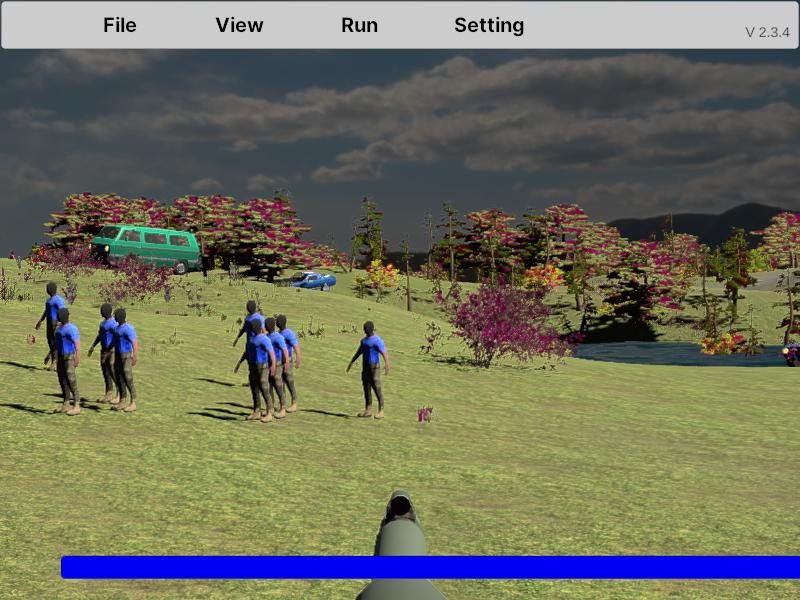Human: (235, 320, 276, 422), (346, 322, 389, 419), (88, 303, 124, 405), (103, 309, 138, 412), (87, 303, 123, 403), (88, 304, 123, 405), (48, 308, 81, 415), (266, 315, 294, 416), (36, 282, 67, 371)
car: (90, 225, 202, 276), (278, 270, 337, 295), (782, 338, 800, 368)
